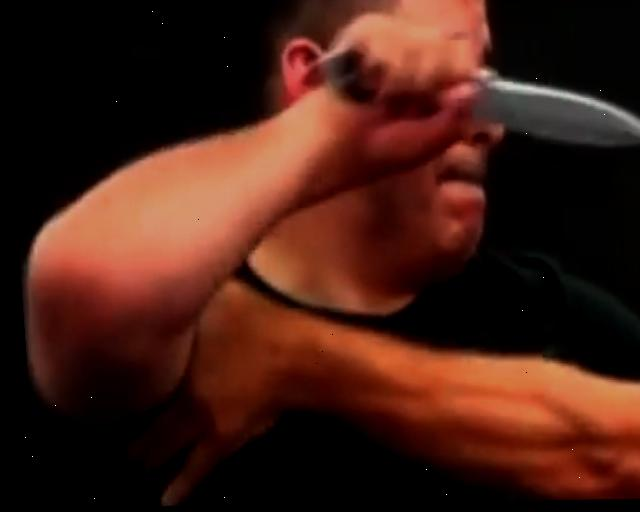pocket-knife: (306, 26, 640, 169)
